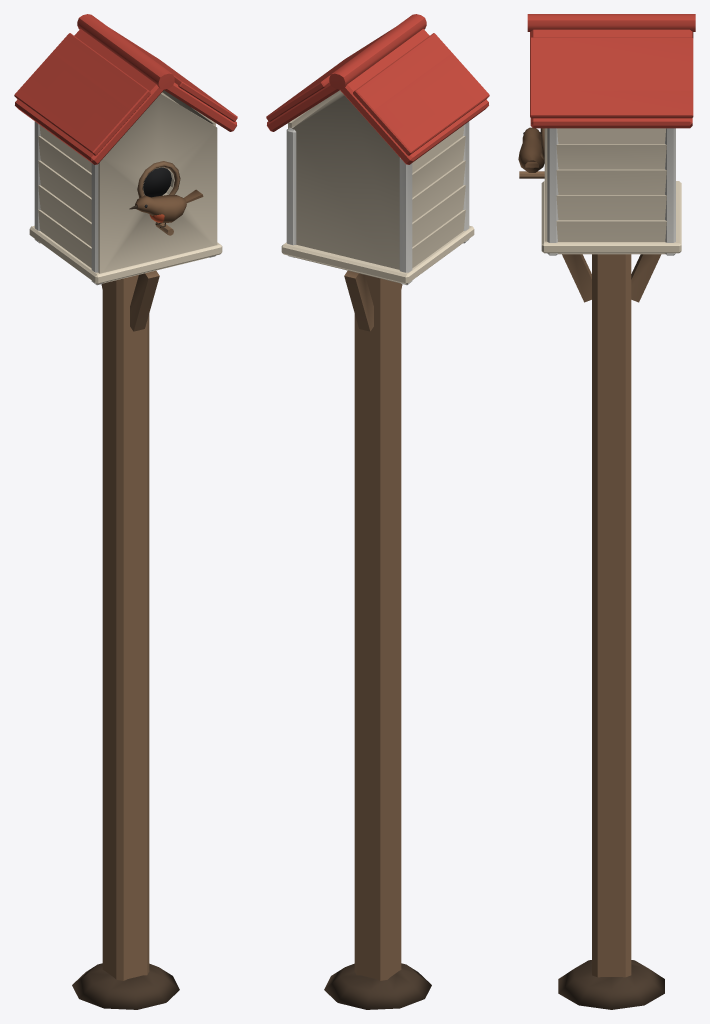
Rendered from birdhouse.glb.
3 renders of one model, left to right at view 1: azimuth 30°, elevation 25°; view 2: azimuth 150°, elevation 25°; view 3: azimuth 270°, elevation 25°, orthographic. The views are drawn at different scales.
Visible parts, largest first — view 1: birdhouse; view 2: birdhouse; view 3: birdhouse.
Part boxes in pixels (x1,y1,x2,y2): birdhouse: [14, 14, 237, 1009]; birdhouse: [266, 14, 489, 1009]; birdhouse: [518, 14, 695, 1009].
Bounding box in the file's own units: 0.3109 × 1.91 × 0.3167.
